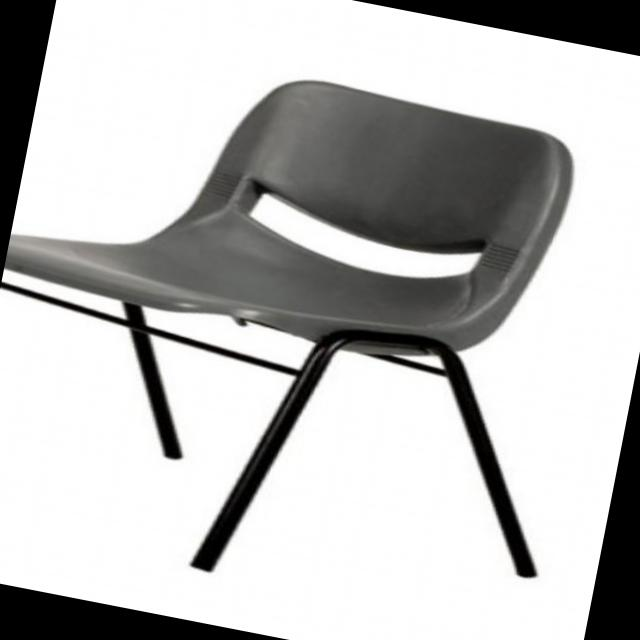Chair: (0, 25, 629, 638)
